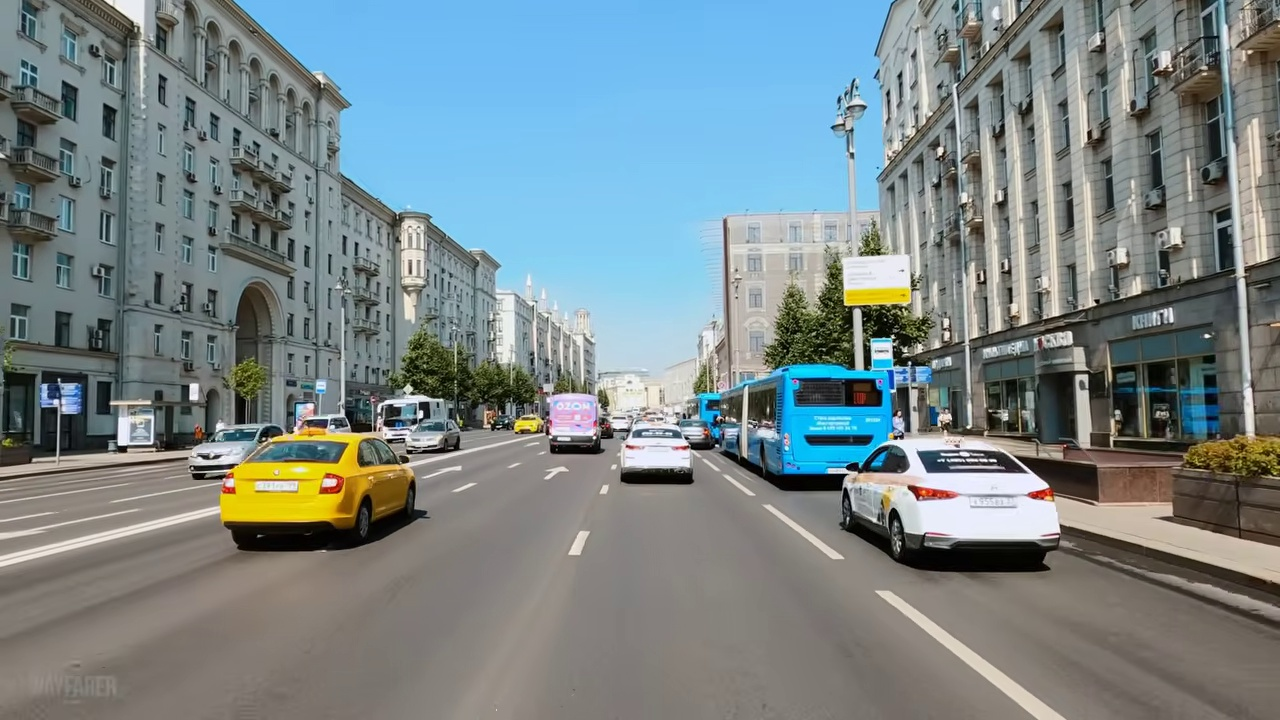apagada: (829, 95, 867, 138)
